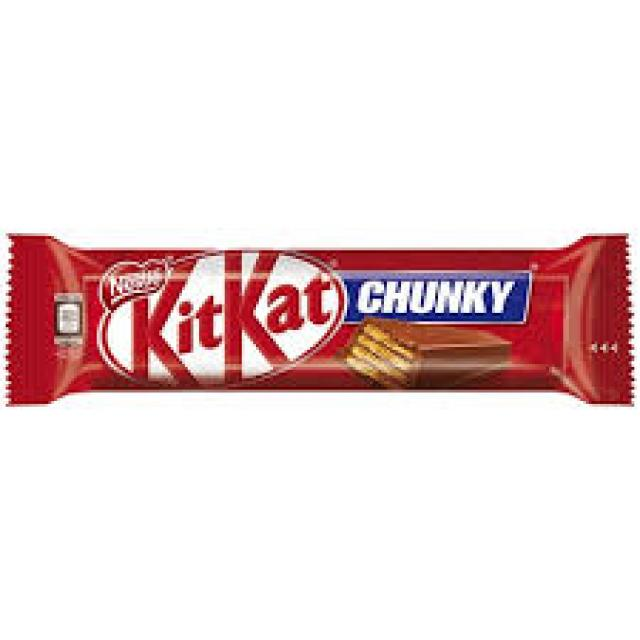kitkat: (3, 229, 638, 411)
